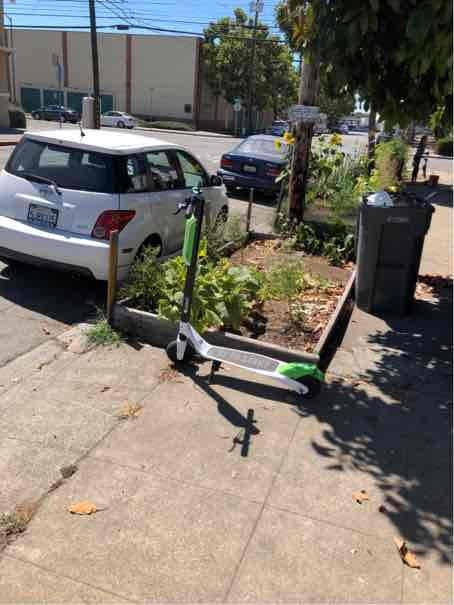scooter: (145, 162, 332, 413)
